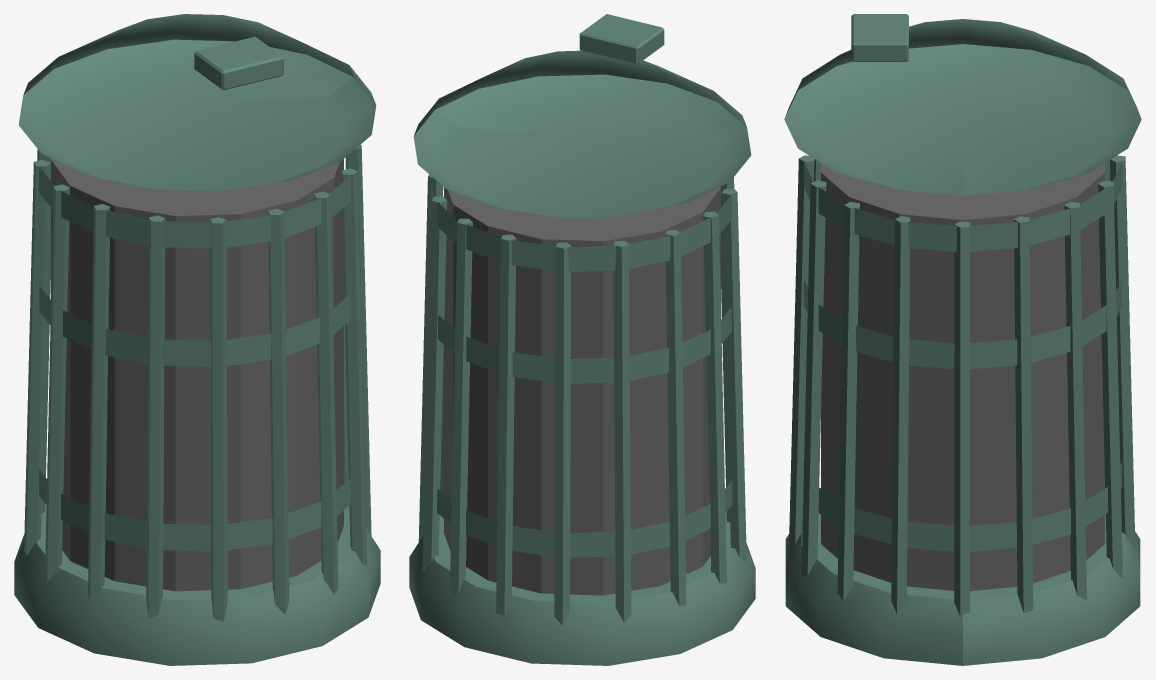
The model's file is indoor-market-hall-and-traders-litter-bin-06bd3ac5.glb.
The picture shows the model from 3 angles, left to right: view 1: azimuth 30°, elevation 25°; view 2: azimuth 150°, elevation 25°; view 3: azimuth 270°, elevation 25°; orthographic projection. The views are drawn at different scales.
Visible parts, largest first — view 1: litter-bin, bin-lid; view 2: litter-bin, bin-lid; view 3: litter-bin, bin-lid.
Boxes of the visible parts, x1,y1,x2,y2 form: litter-bin: [14, 144, 380, 665]; bin-lid: [18, 14, 376, 191]; litter-bin: [409, 174, 755, 665]; bin-lid: [413, 14, 751, 217]; litter-bin: [785, 155, 1140, 665]; bin-lid: [784, 14, 1141, 195].
Size of the model in its own units: 0.506 by 0.86 by 0.4968.
